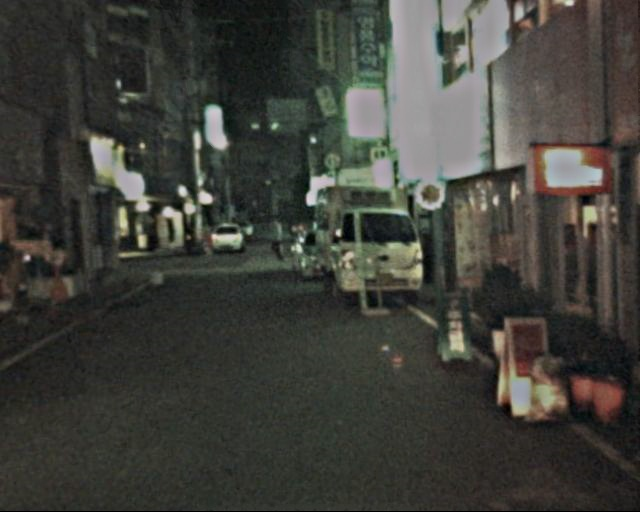person: (264, 215, 288, 267)
